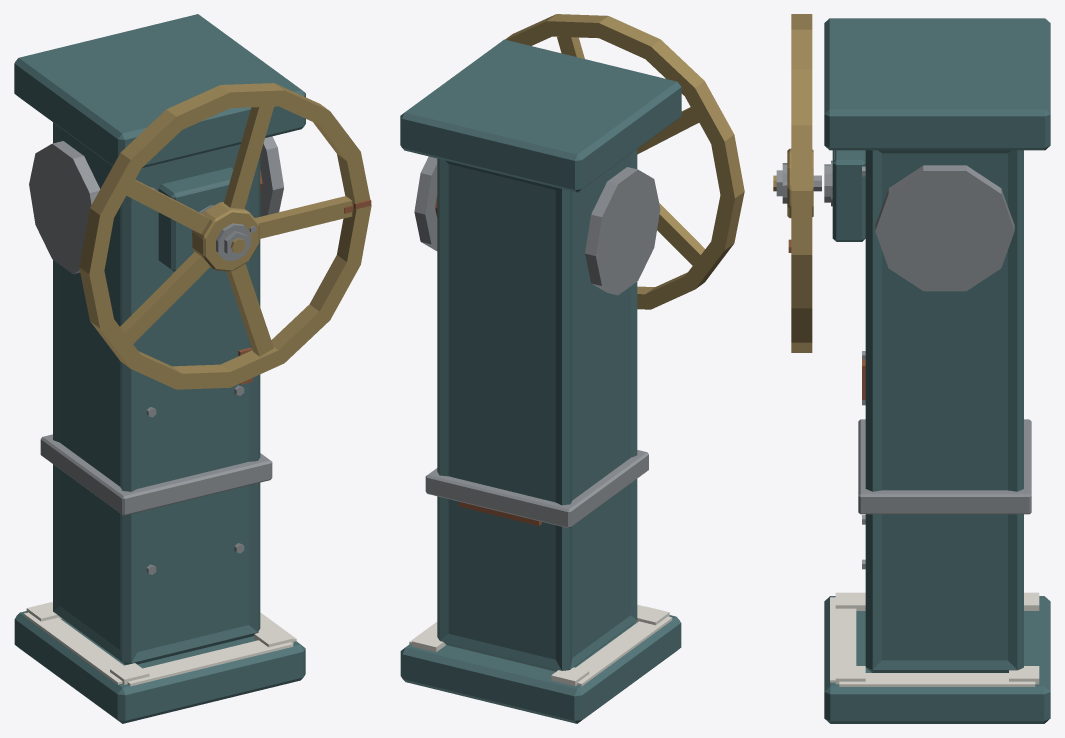
Rendered from valve_echo_cistern.glb.
3 views of the same model, side by side, from view 1: azimuth 30°, elevation 25°; view 2: azimuth 150°, elevation 25°; view 3: azimuth 270°, elevation 25° (orthographic). The views are drawn at different scales.
Visible parts, largest first — view 1: Valve_Pedestal, Valve_Wheel; view 2: Valve_Pedestal, Valve_Wheel; view 3: Valve_Pedestal, Valve_Wheel.
Boxes of the visible parts, left/top/right/bottom form: Valve_Pedestal: left=14, top=14, right=305, bottom=723; Valve_Wheel: left=79, top=83, right=371, bottom=389; Valve_Pedestal: left=400, top=39, right=681, bottom=723; Valve_Wheel: left=505, top=14, right=744, bottom=309; Valve_Pedestal: left=824, top=18, right=1050, bottom=723; Valve_Wheel: left=773, top=14, right=821, bottom=352.
Size of the model in its own units: 0.9 by 1.9 by 0.735.
